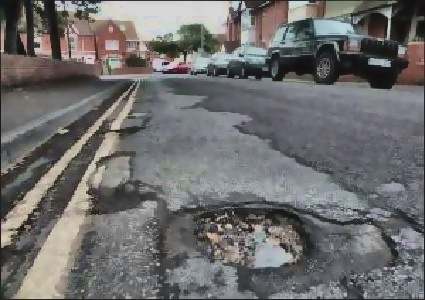pothole: (186, 202, 314, 271)
